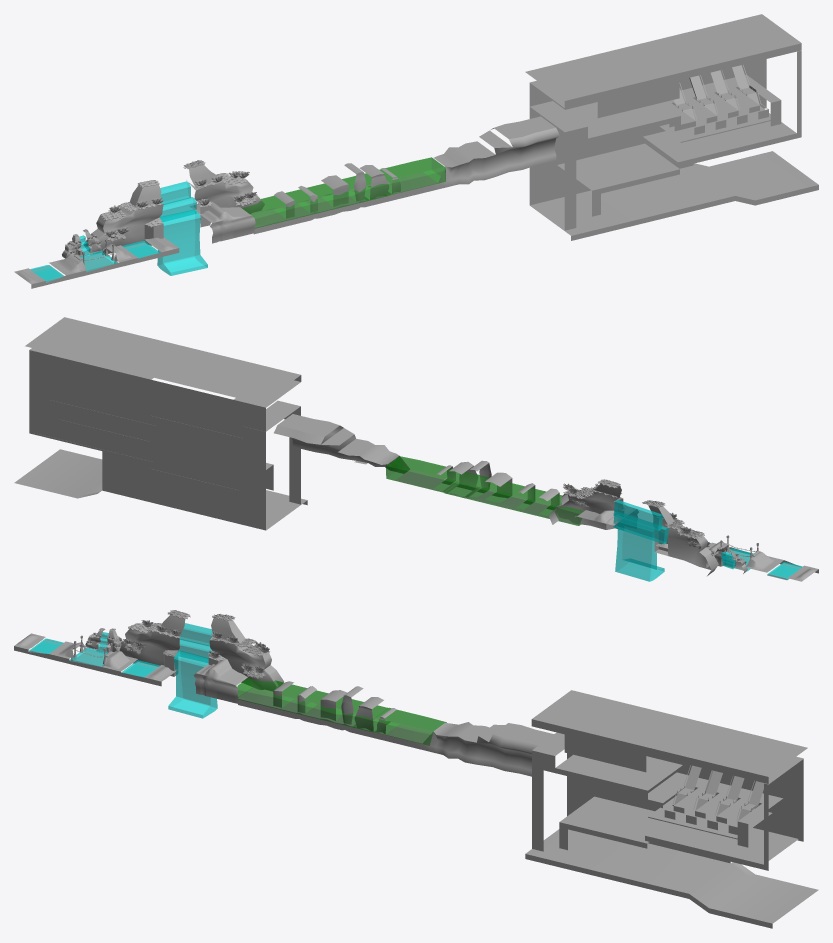
File: Game Scene.fbx
3 renders of one model, top to bottom at view 1: azimuth 30°, elevation 25°; view 2: azimuth 150°, elevation 25°; view 3: azimuth 330°, elevation 25°, orthographic.
Parts seen in each view (by area): view 1: Temple_Wall, Swamp_Level, Temple_Wall_3, Temple_Wall_2, Forrest, Waterfall_Rock_2, Temple_Wall_4, Temple_Wall_5, WaterFall_2, Grassy_Terrain, Swamp_water_6, Swamp_Water_3 (+2 smaller); view 2: Temple_Wall, Swamp_Level, Waterfall_Rock_2, WaterFall_2, Forrest, Swamp_water_6, Swamp_Water_3, Temple_Wall_2, Grassy_Terrain, Swamp_Water_2, Swamp_Water_1; view 3: Temple_Wall, Swamp_Level, Temple_Wall_3, Temple_Wall_2, Forrest, Waterfall_Rock_2, Temple_Wall_4, Temple_Wall_5, WaterFall_2, Grassy_Terrain, Swamp_water_6, Swamp_Water_3 (+2 smaller).
Boxes of the visible parts, bbox=[...] form: Temple_Wall: bbox=[525, 14, 818, 240]; Swamp_Level: bbox=[250, 116, 559, 234]; Temple_Wall_3: bbox=[660, 65, 781, 142]; Temple_Wall_2: bbox=[530, 101, 680, 230]; Forrest: bbox=[14, 201, 255, 288]; Waterfall_Rock_2: bbox=[83, 164, 264, 254]; Temple_Wall_4: bbox=[643, 50, 801, 167]; Temple_Wall_5: bbox=[557, 143, 679, 216]; WaterFall_2: bbox=[157, 181, 207, 275]; Grassy_Terrain: bbox=[65, 160, 256, 254]; Swamp_water_6: bbox=[379, 157, 445, 195]; Swamp_Water_3: bbox=[316, 173, 389, 209]; Temple_Wall: bbox=[14, 317, 307, 530]; Swamp_Level: bbox=[274, 414, 580, 525]; Waterfall_Rock_2: bbox=[549, 483, 718, 575]; WaterFall_2: bbox=[613, 500, 669, 581]; Forrest: bbox=[574, 503, 818, 581]; Swamp_water_6: bbox=[386, 456, 459, 492]; Swamp_Water_3: bbox=[444, 472, 517, 507]; Temple_Wall_2: bbox=[160, 400, 300, 504]; Grassy_Terrain: bbox=[563, 479, 746, 564]; Swamp_Water_2: bbox=[502, 484, 553, 516]; Swamp_Water_1: bbox=[540, 494, 583, 525]; Temple_Wall: bbox=[525, 690, 818, 928]; Swamp_Level: bbox=[238, 681, 553, 776]; Temple_Wall_3: bbox=[641, 765, 782, 847]; Temple_Wall_2: bbox=[532, 732, 682, 851]; Forrest: bbox=[14, 633, 247, 703]; Waterfall_Rock_2: bbox=[119, 614, 283, 691]; Temple_Wall_4: bbox=[645, 759, 802, 870]; Temple_Wall_5: bbox=[559, 796, 663, 850]; WaterFall_2: bbox=[168, 623, 217, 718]; Grassy_Terrain: bbox=[86, 610, 269, 678]; Swamp_water_6: bbox=[373, 707, 446, 745]; Swamp_Water_3: bbox=[315, 697, 388, 732].
Size of the model in its own units: 568 by 101 by 58.76.
